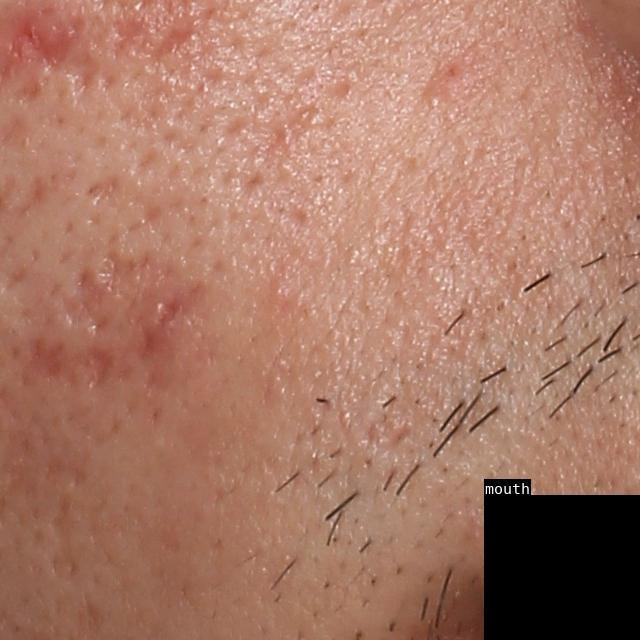atrophic_scar: (53, 248, 156, 341), (145, 21, 213, 71), (21, 334, 75, 388), (111, 12, 152, 60), (79, 343, 115, 395), (83, 171, 128, 203), (374, 423, 419, 454)
